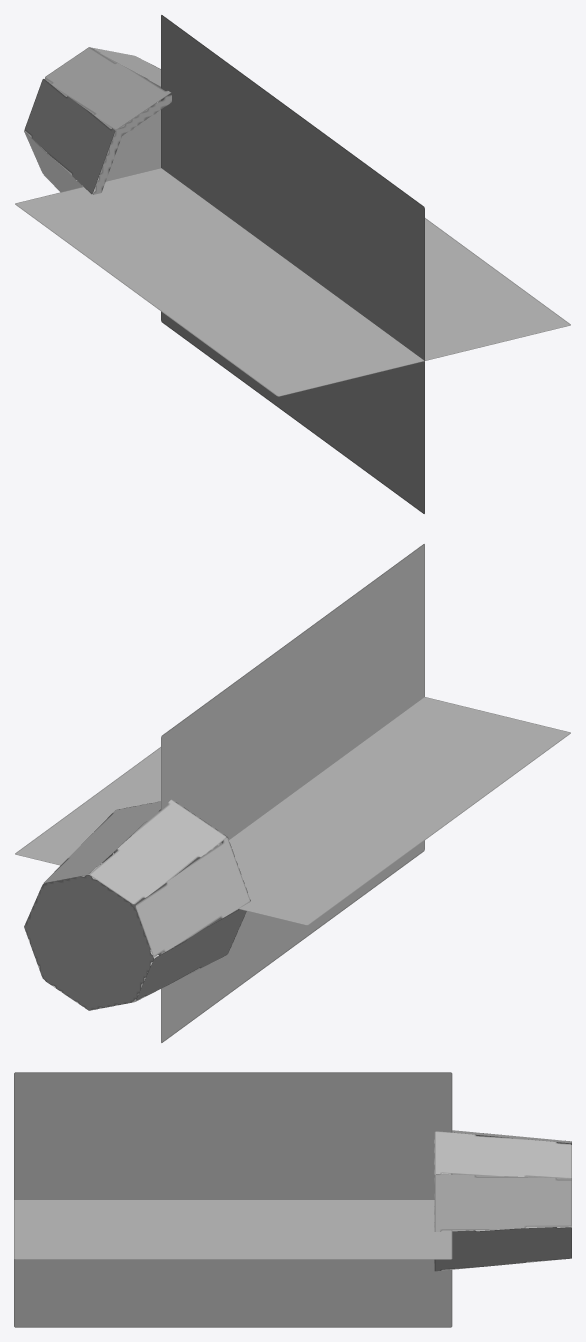
The model's file is pz_plant_native_10.obj.
The picture shows the model from 3 angles, top to bottom: view 1: azimuth 30°, elevation 25°; view 2: azimuth 150°, elevation 25°; view 3: azimuth 270°, elevation 25°; orthographic projection. The views are drawn at different scales.
Visible parts, largest first — view 1: foliage_PNG_crossed_cards, pot_soil_and_rim; view 2: foliage_PNG_crossed_cards, pot_soil_and_rim; view 3: foliage_PNG_crossed_cards, pot_soil_and_rim.
Part boxes in pixels (<box>): foliage_PNG_crossed_cards: <box>15,15,570,513</box>; pot_soil_and_rim: <box>24,47,171,194</box>; foliage_PNG_crossed_cards: <box>15,544,570,1042</box>; pot_soil_and_rim: <box>24,799,250,1010</box>; foliage_PNG_crossed_cards: <box>14,1072,452,1327</box>; pot_soil_and_rim: <box>434,1130,571,1271</box>.
Bounding box in the file's own units: 0.3891 × 0.3891 × 0.7703.
Materials: 1 (1 with a texture image).
